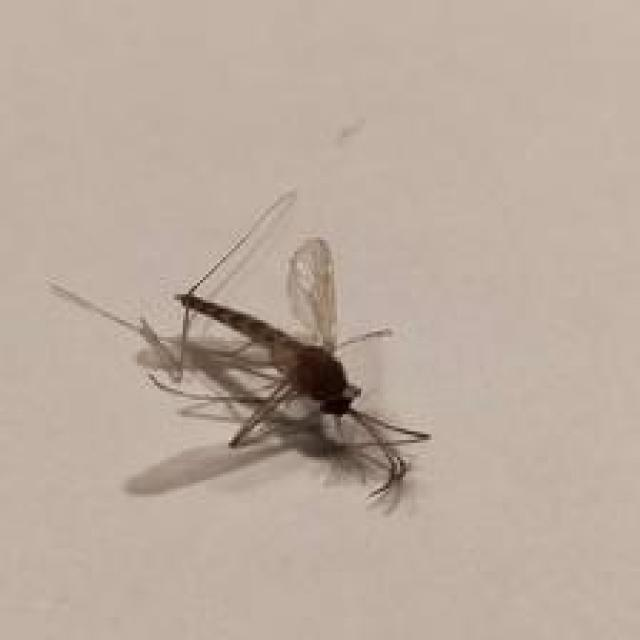Culex: (47, 186, 433, 514)
